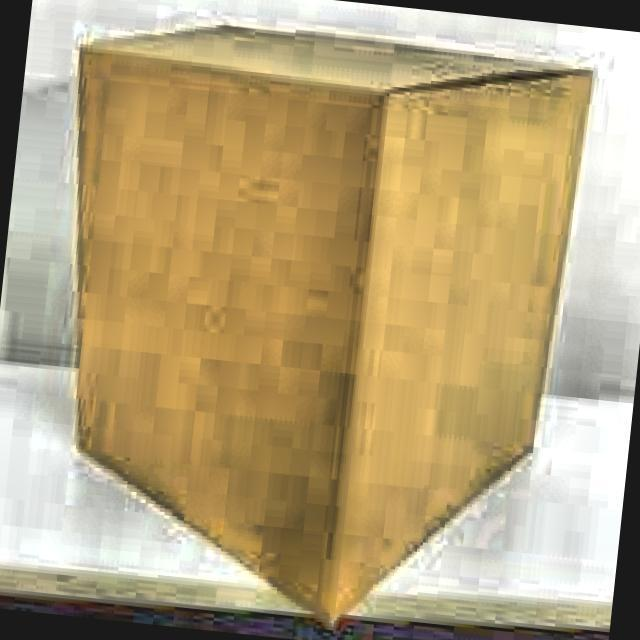cardboard: (20, 3, 597, 640)
